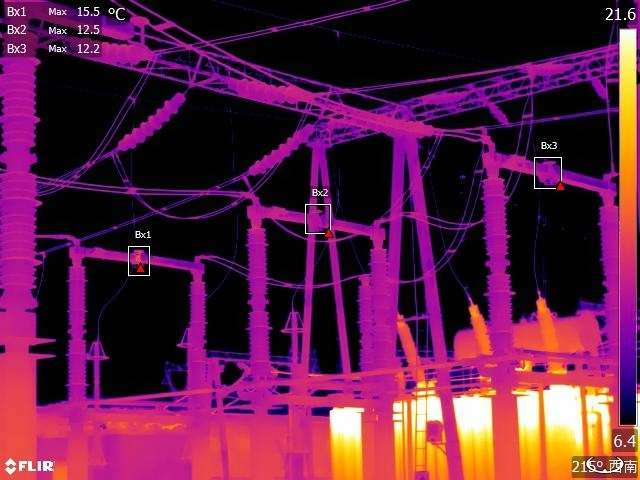insulator: (111, 89, 190, 155), (247, 121, 316, 177), (225, 74, 314, 108), (69, 36, 153, 66), (515, 57, 577, 80), (480, 97, 511, 126), (420, 89, 470, 106), (593, 71, 611, 107)
lightning arrester: (278, 303, 309, 379), (87, 336, 109, 404)
oil conservator: (449, 310, 601, 367)
post insulator: (1, 29, 50, 352), (477, 171, 518, 355), (244, 224, 273, 380), (66, 262, 89, 407), (368, 245, 393, 367), (599, 200, 618, 348), (186, 279, 208, 406), (358, 275, 372, 370)
switch: (484, 141, 616, 202), (244, 193, 388, 245), (1, 1, 144, 48), (63, 234, 208, 279)
transformer: (325, 382, 615, 480)
tube: (536, 291, 568, 374), (399, 314, 426, 387), (467, 299, 490, 357)
